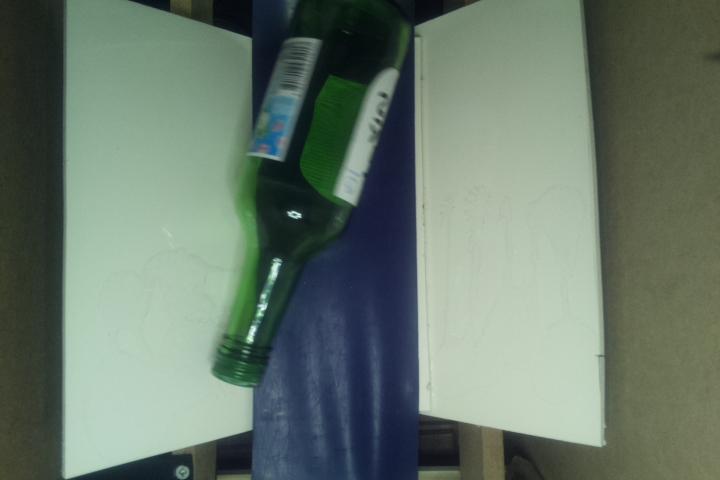soju: (202, 3, 422, 393)
